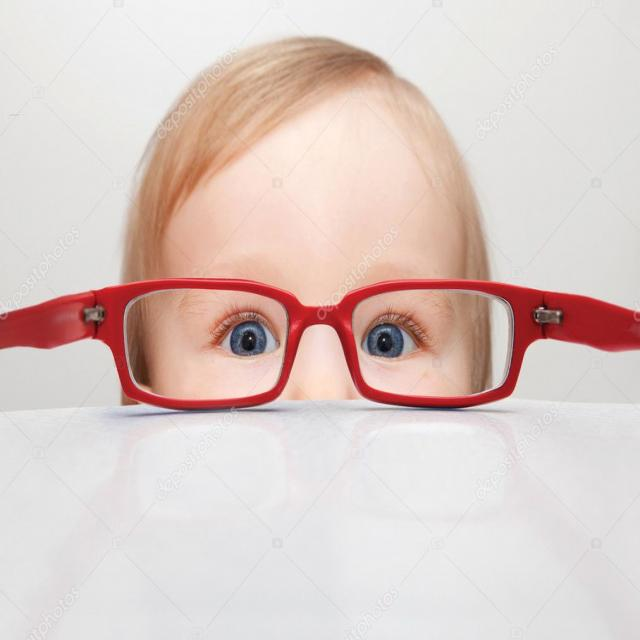Glasses: (0, 273, 640, 416)
